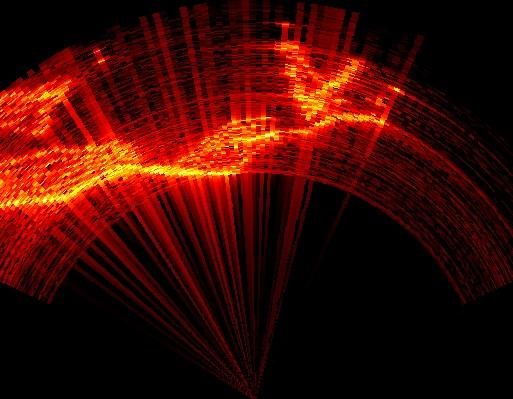shipwreck: (0, 41, 395, 211)
